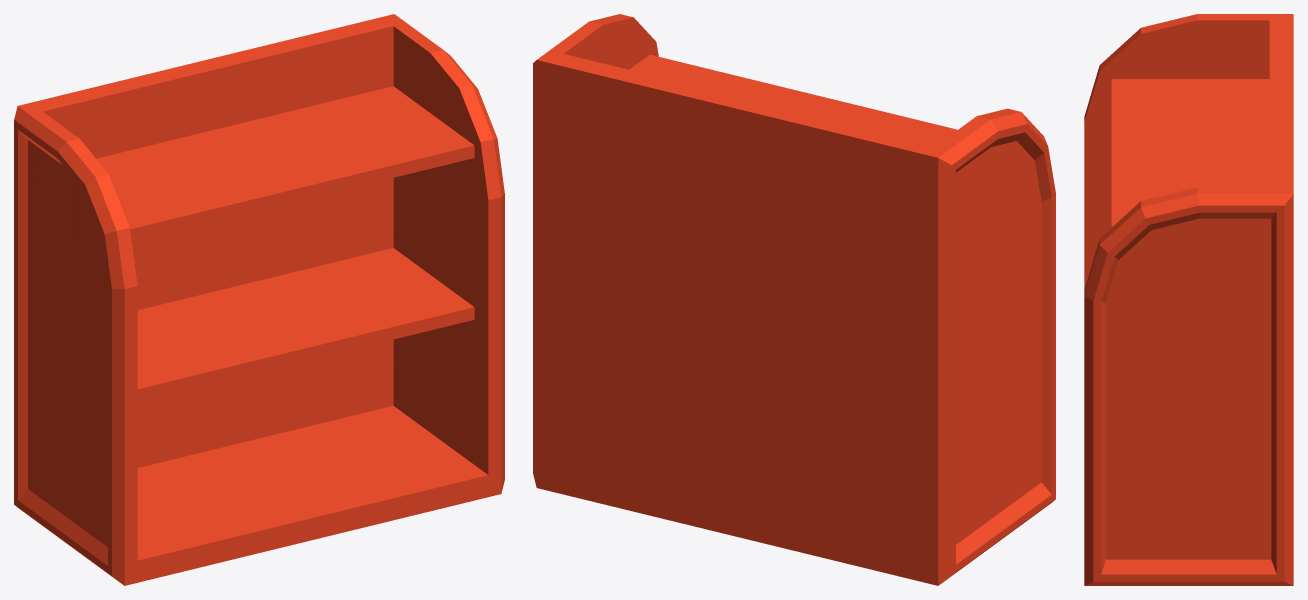
The model's file is SM_Shelf_Metal_A_City.fbx.
3 views of the same model, side by side, from view 1: azimuth 30°, elevation 25°; view 2: azimuth 150°, elevation 25°; view 3: azimuth 270°, elevation 25° (orthographic). The views are drawn at different scales.
Parts seen in each view (by area): view 1: SM_Shelf_Metal_A_City; view 2: SM_Shelf_Metal_A_City; view 3: SM_Shelf_Metal_A_City.
Boxes of the visible parts, left/top/right/bottom form: SM_Shelf_Metal_A_City: left=14, top=14, right=504, bottom=585; SM_Shelf_Metal_A_City: left=533, top=14, right=1055, bottom=585; SM_Shelf_Metal_A_City: left=1084, top=14, right=1293, bottom=585.
Bounding box in the file's own units: 1.06 × 1.04 × 0.5014.
